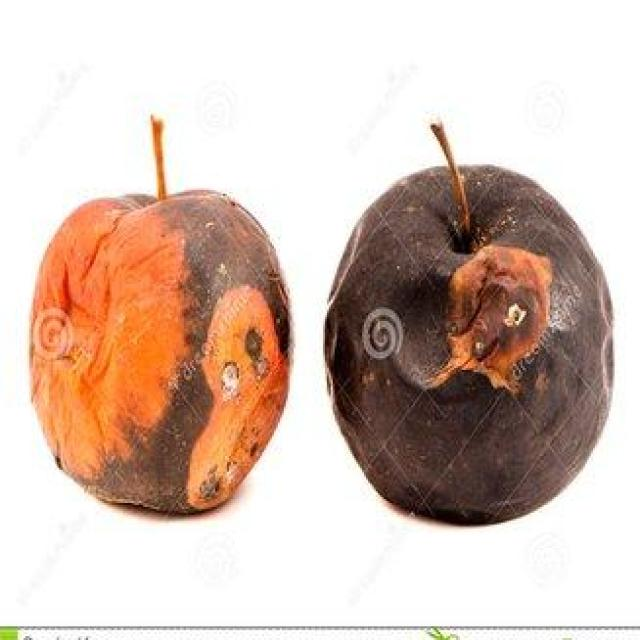organic: (323, 123, 617, 528), (29, 115, 294, 521)
